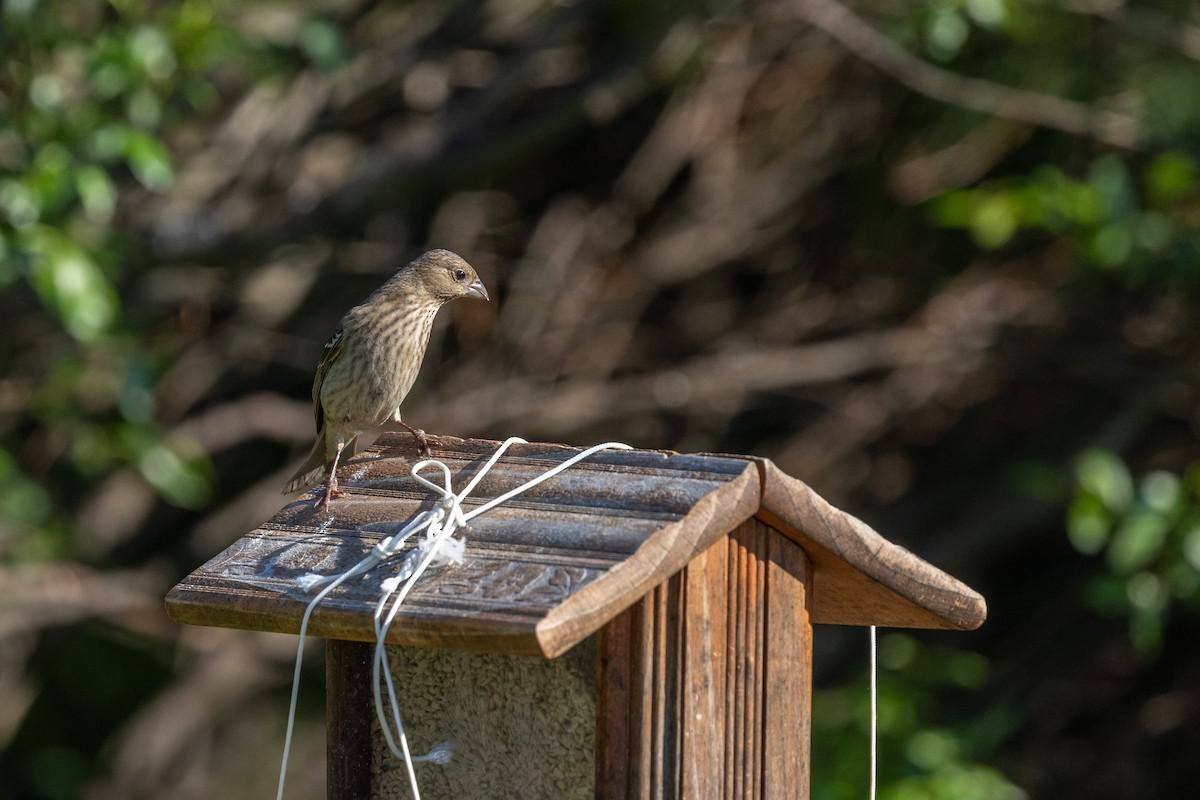rosefinch: (301, 253, 490, 453)
